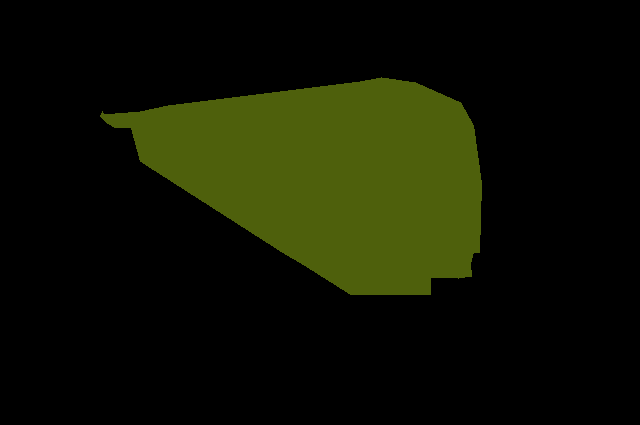Train: (100, 77, 481, 294)
